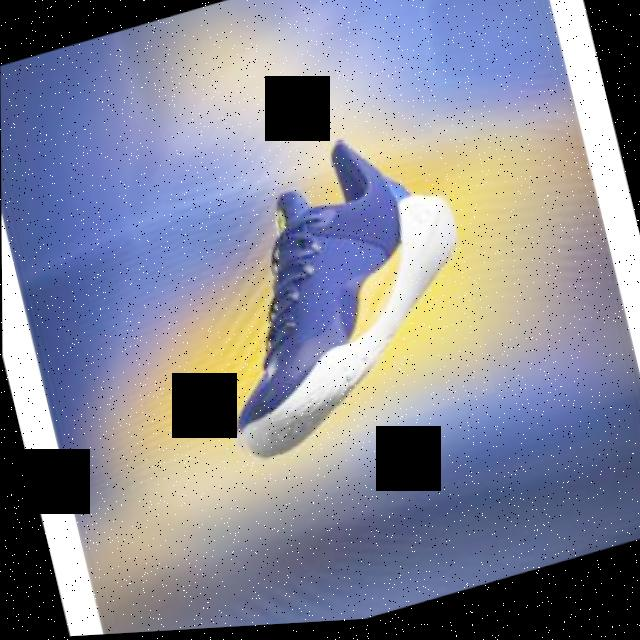shoe: (172, 115, 495, 472)
